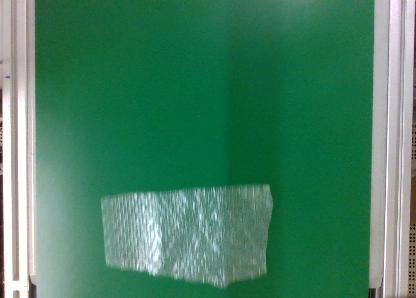Others: (99, 184, 274, 290)
